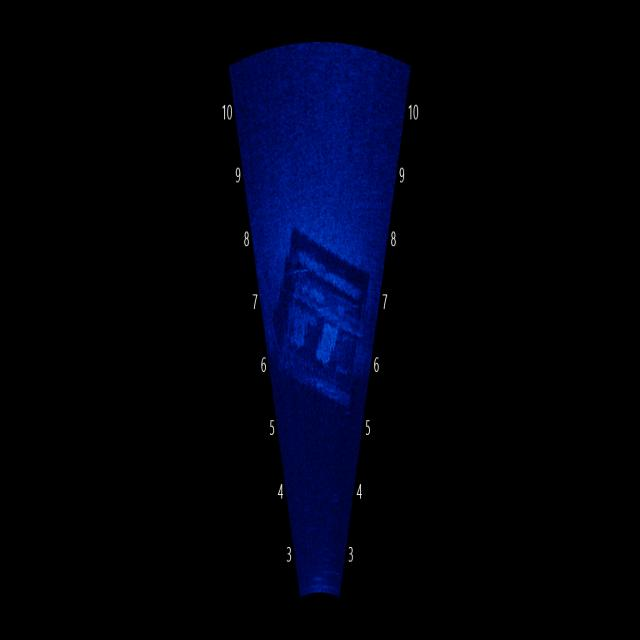square: (266, 226, 374, 417)
